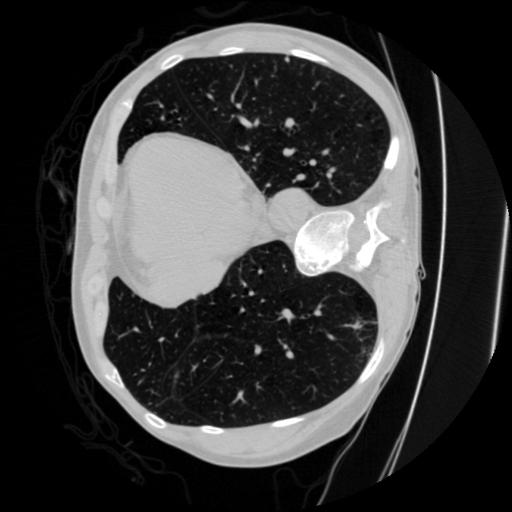nodule: (281, 55, 293, 67)
